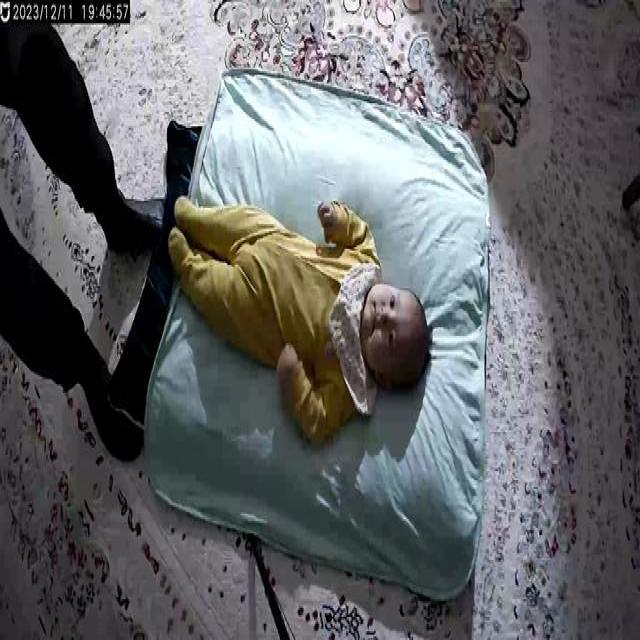baby: (166, 187, 433, 440)
